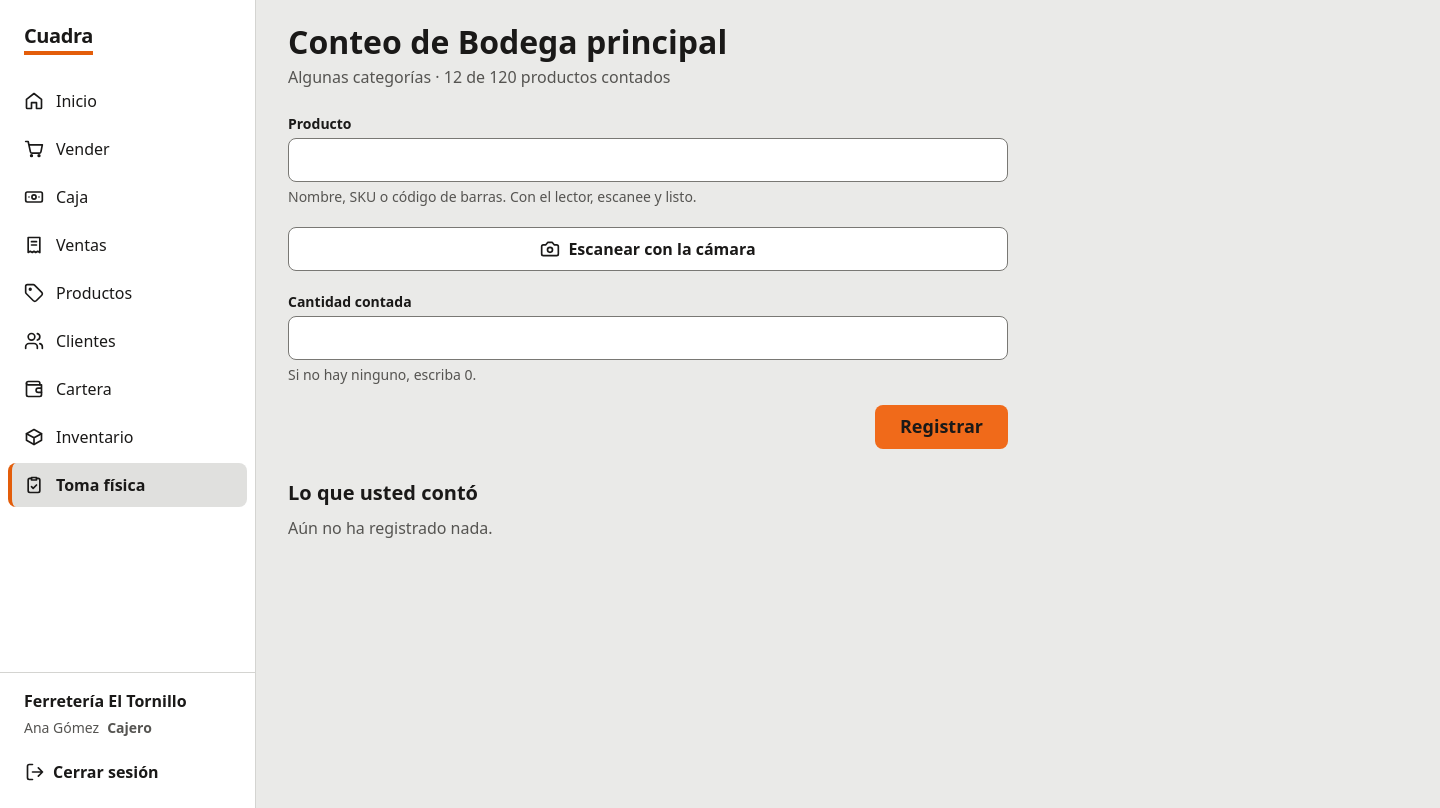
Test: CountingPage › un producto fuera del conteo parcial lo dice sobre el formulario
The image size is (1440, 808).
Type "Tubo" into the search field labelled "Producto" at (648, 160), box x1=288 y1=138 x2=1008 y2=182
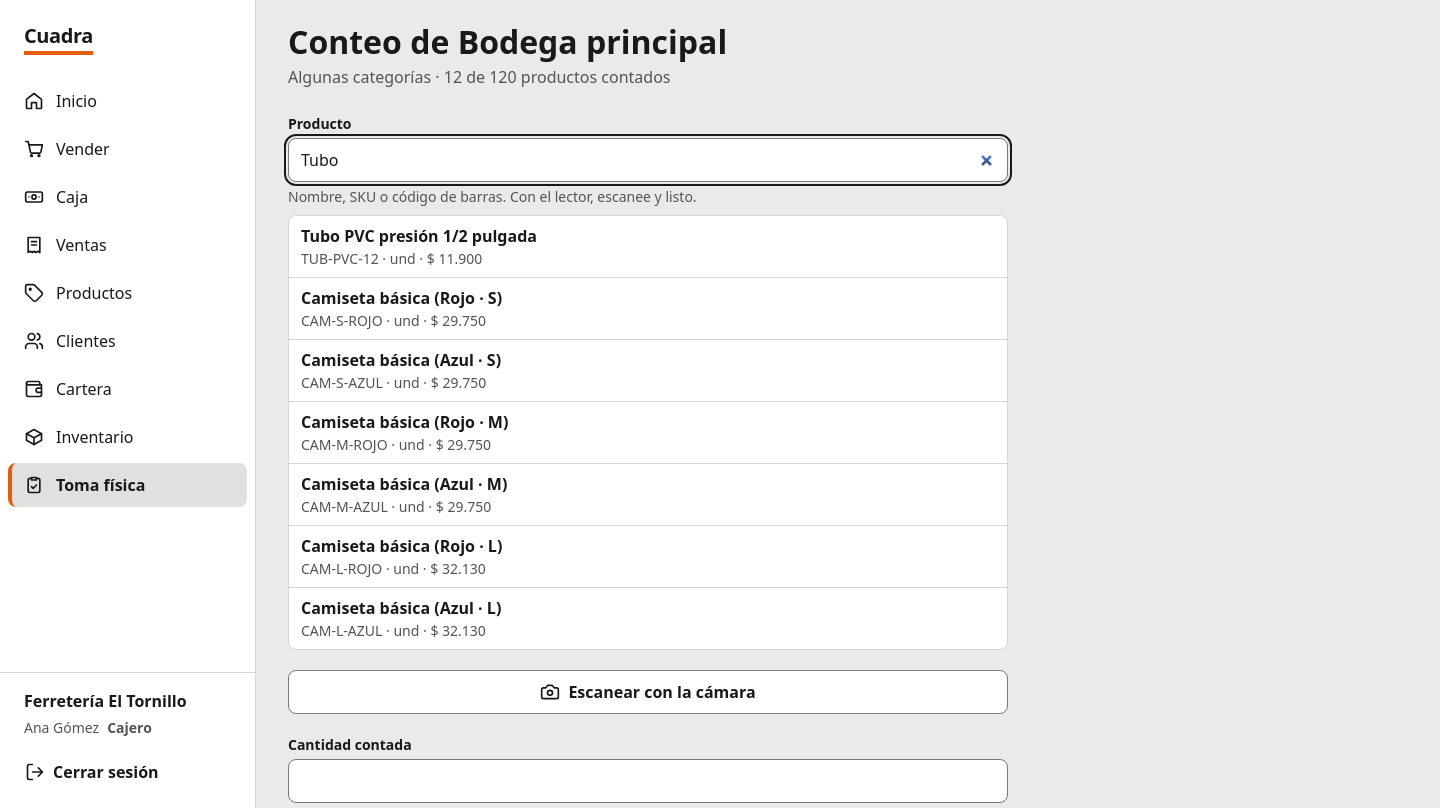
Click the button "Tubo PVC presión 1/2 pulgada TUB-PVC-12 · und · $ 11.900" at (419, 236), box x1=289 y1=216 x2=1007 y2=277
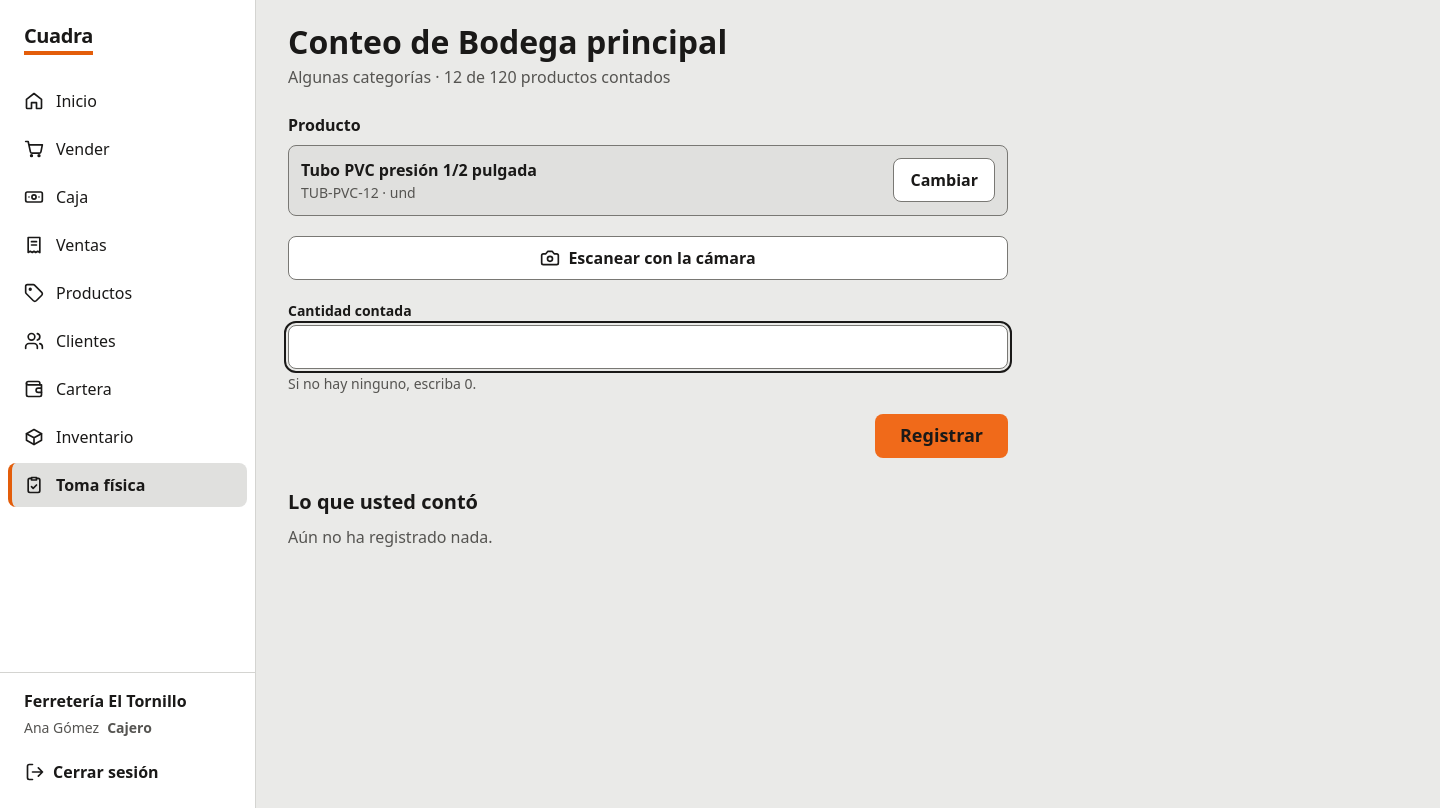
Type "1" into the field labelled "Cantidad contada" at (648, 347), box x1=288 y1=325 x2=1008 y2=369
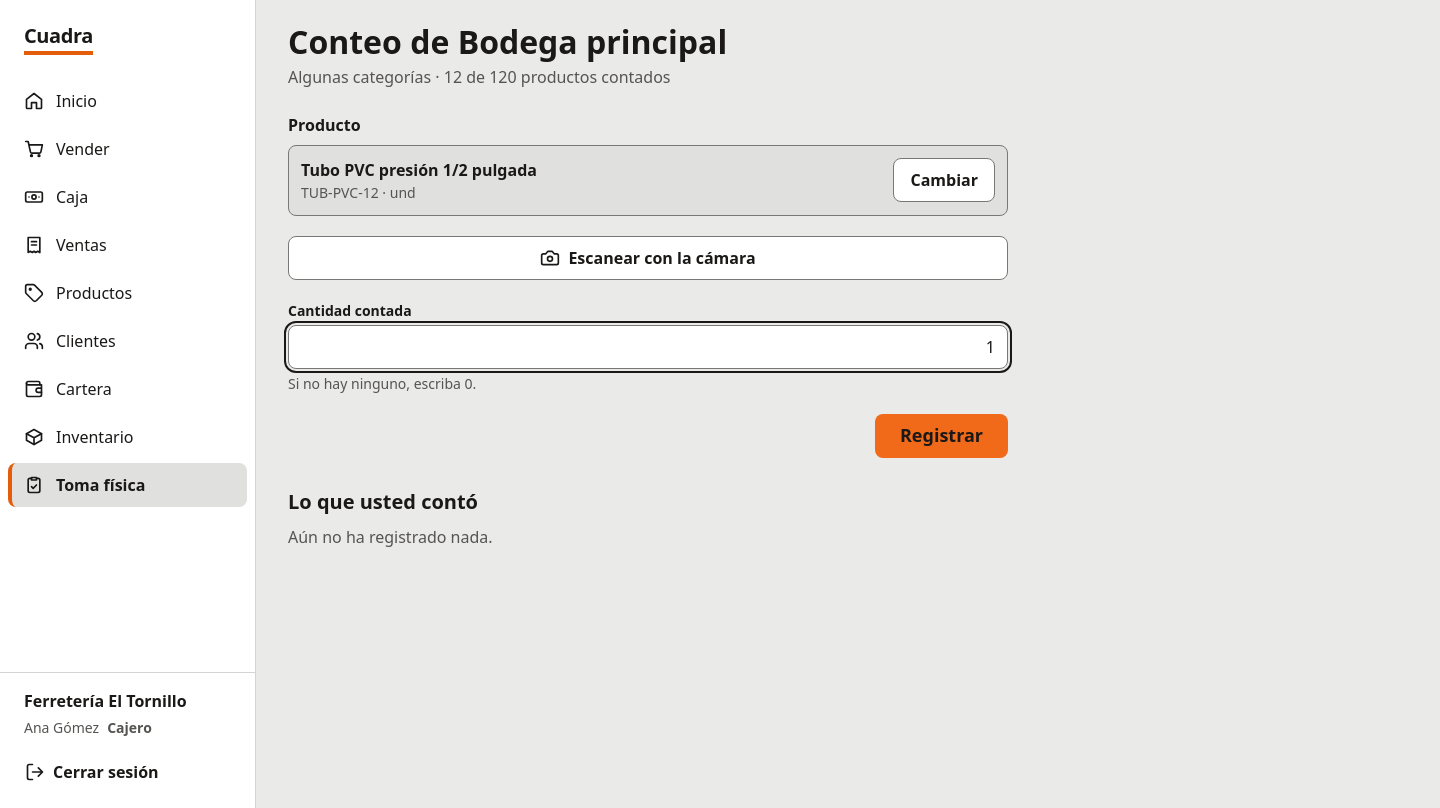
Click the button "Registrar" at (942, 436), box x1=875 y1=414 x2=1008 y2=458
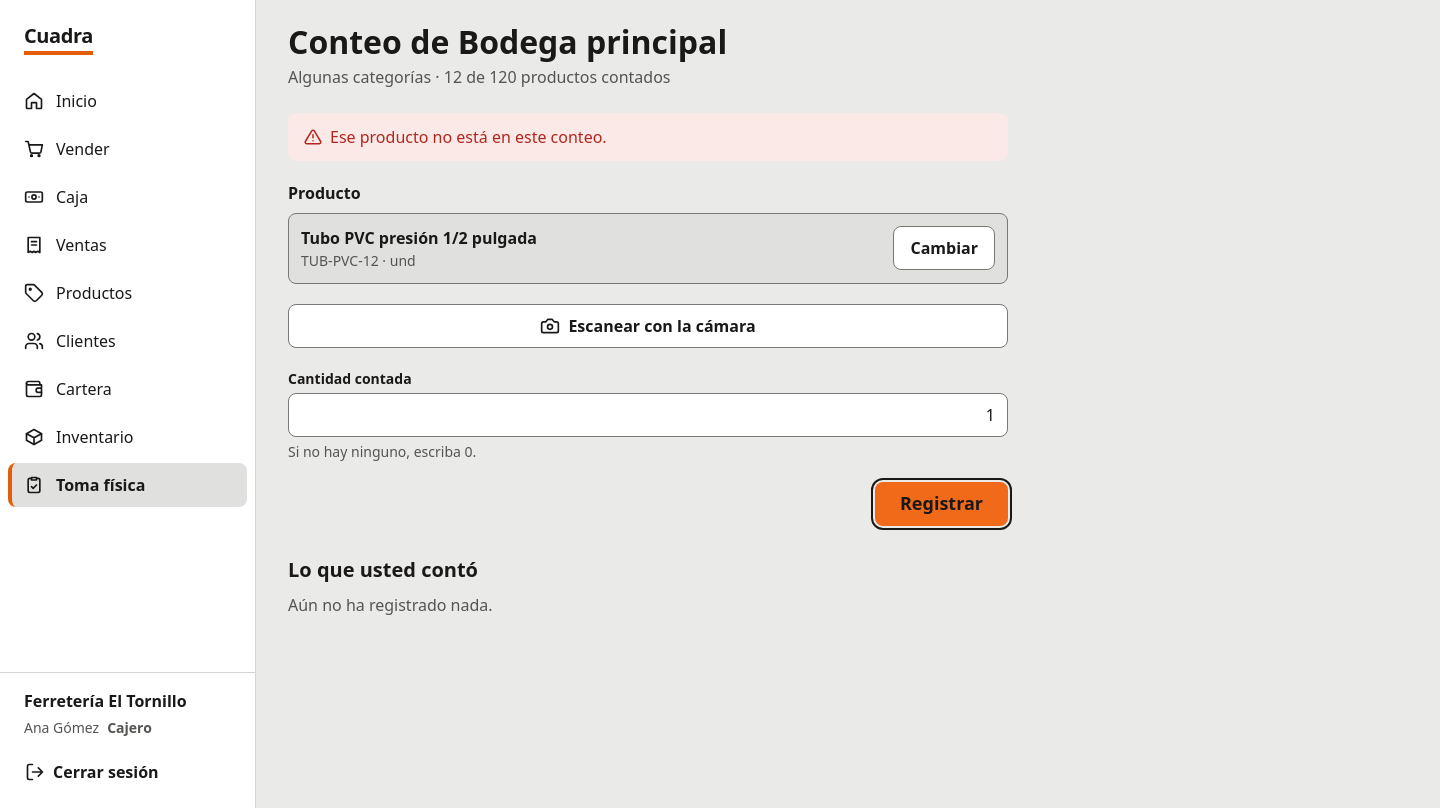
Now the text "Ese producto no está en este conteo." is shown, box x1=330 y1=125 x2=607 y2=149
